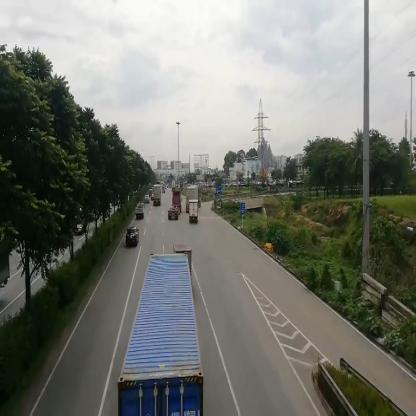car: (126, 227, 141, 247)
container: (131, 257, 199, 416), (166, 191, 182, 222), (186, 185, 202, 202), (155, 186, 162, 205)
truck: (191, 201, 199, 226), (136, 204, 147, 220)
